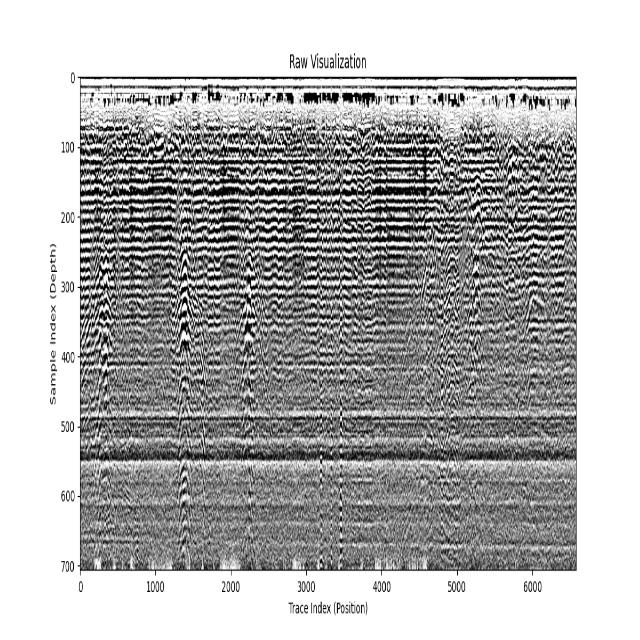anomaly: (399, 316, 452, 558), (179, 150, 190, 570), (101, 170, 113, 395), (242, 215, 255, 420), (468, 189, 482, 376)
